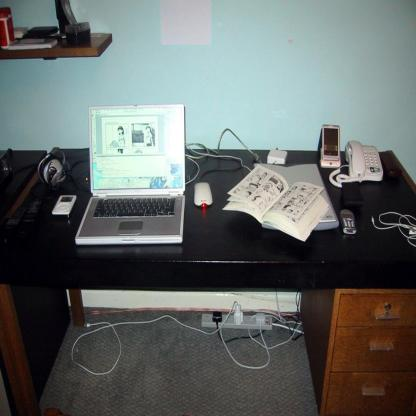board: (65, 99, 186, 255)
